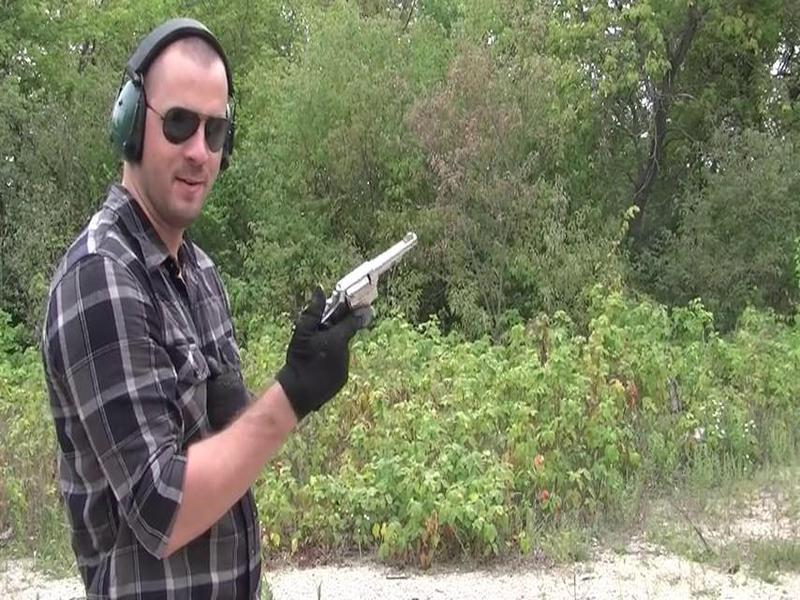Revolver: (327, 225, 442, 346)
